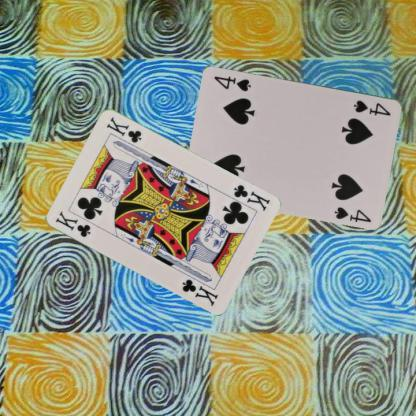4s: (352, 97, 392, 117)
Kc: (231, 182, 271, 213), (52, 209, 92, 238)
